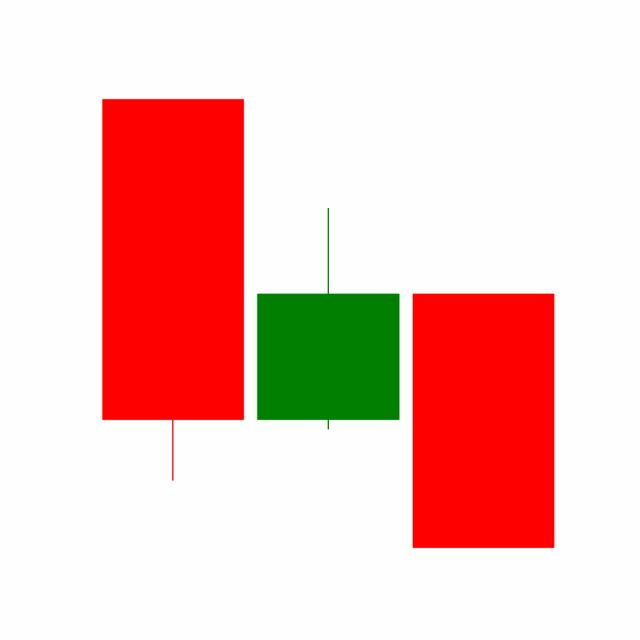Marubozu: (405, 290, 561, 550)
